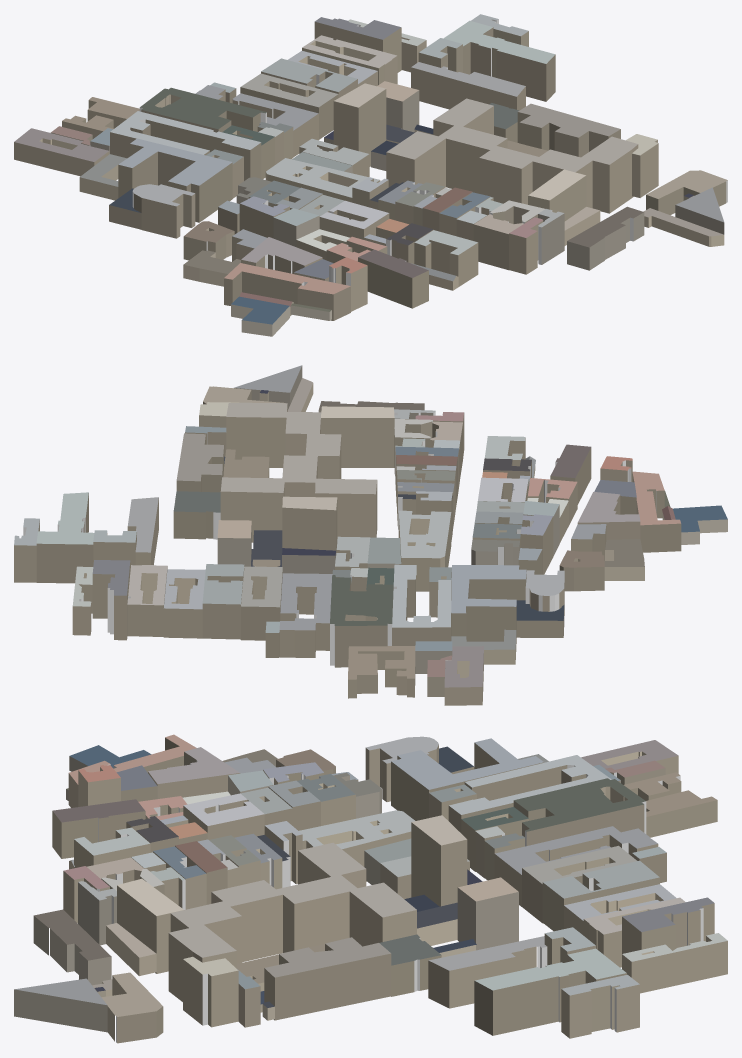
3 views of the same model, one above another, from view 1: azimuth 30°, elevation 25°; view 2: azimuth 150°, elevation 25°; view 3: azimuth 270°, elevation 25° (orthographic). The views are drawn at different scales.
Parts seen in each view (by area): view 1: tuile; view 2: tuile; view 3: tuile.
Boxes of the visible parts, x1,y1,x2,y2 form: tuile: [14, 14, 727, 336]; tuile: [14, 365, 727, 705]; tuile: [14, 734, 727, 1043].
Size of the model in its own units: 279 by 37.93 by 292.
